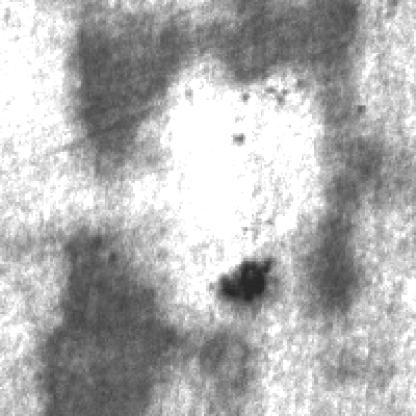inclusion: (209, 250, 274, 304)
patches: (60, 0, 378, 183), (39, 222, 174, 412), (300, 131, 382, 316), (194, 327, 250, 389)
